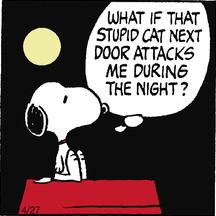snoopy: (22, 80, 110, 185)
